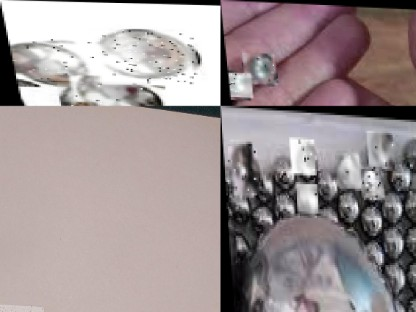ironball: (232, 198, 407, 311), (82, 28, 198, 83), (5, 35, 90, 80), (50, 68, 150, 106), (221, 119, 234, 311), (227, 146, 258, 193), (240, 52, 275, 84), (366, 130, 394, 167), (288, 136, 315, 174), (334, 150, 360, 187), (362, 196, 383, 240), (360, 163, 383, 198), (294, 181, 317, 212), (226, 72, 251, 97), (404, 188, 415, 227)
